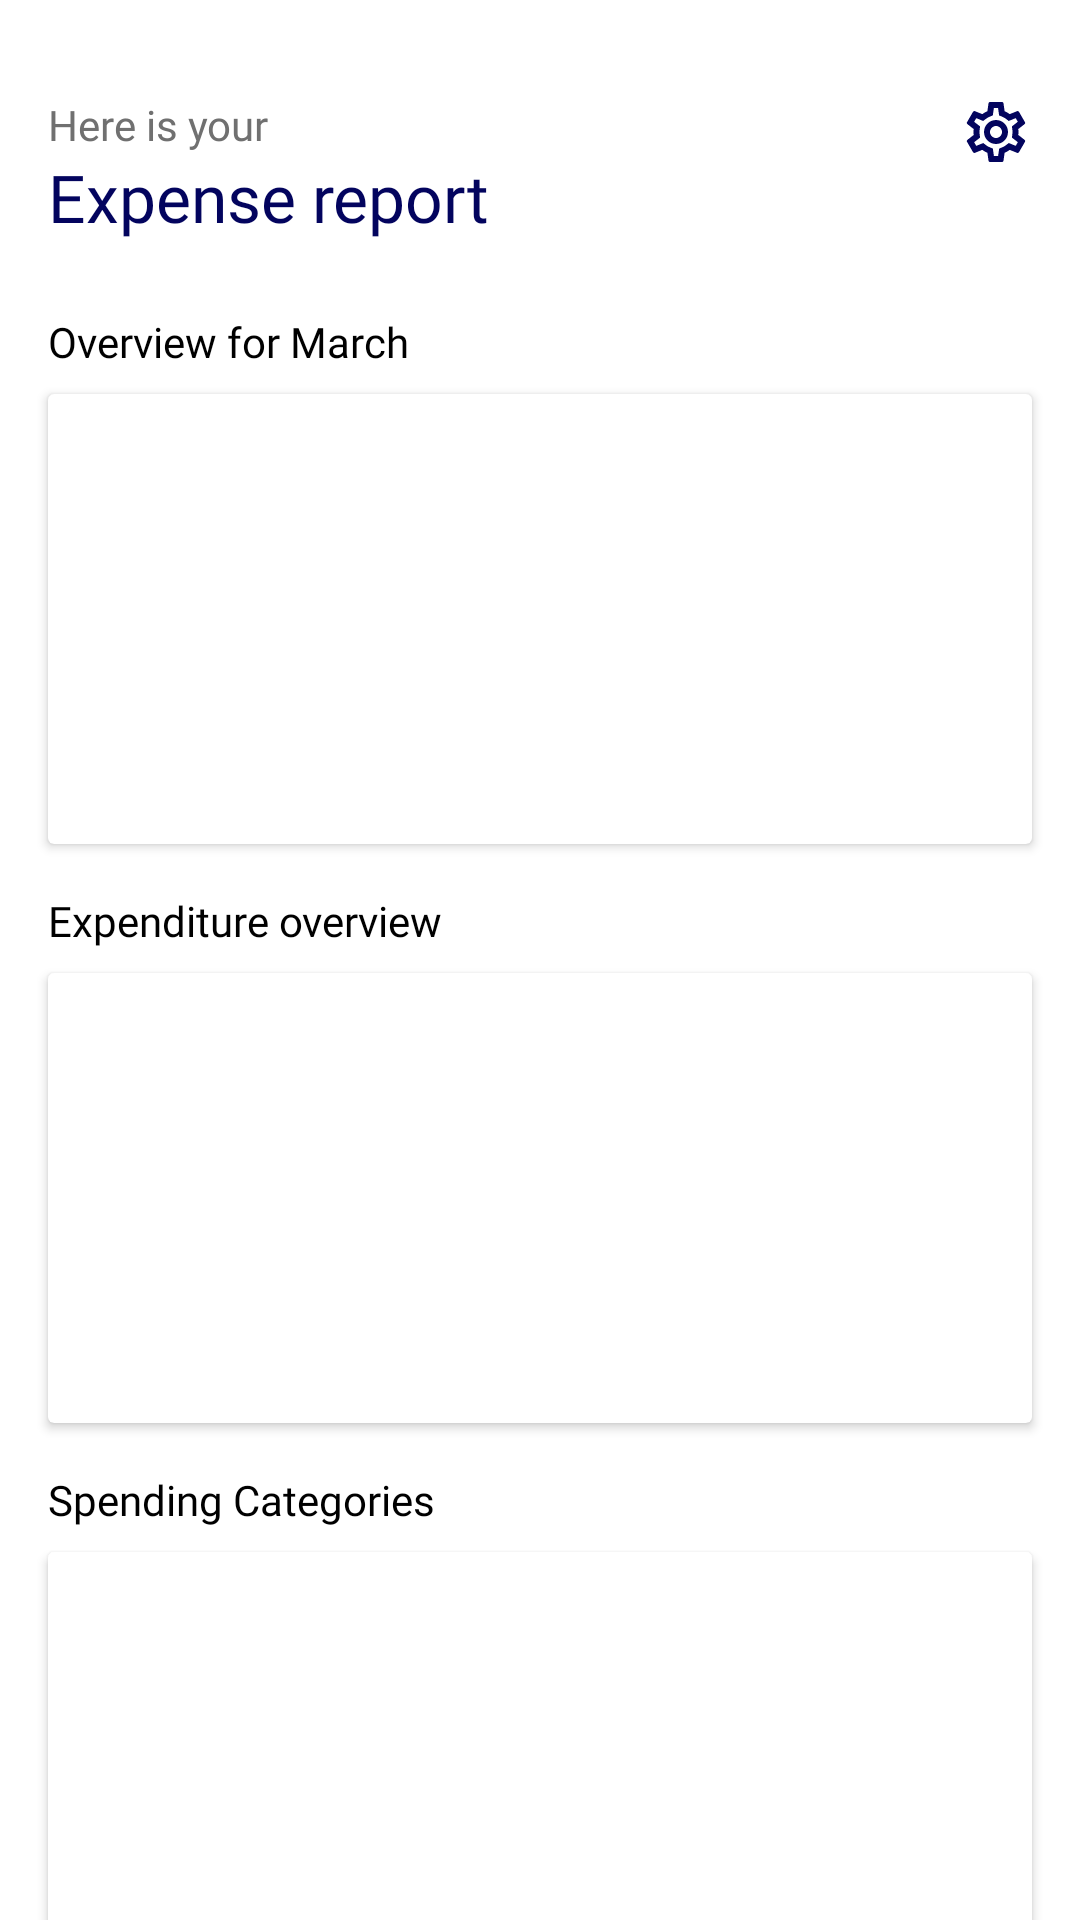

Named icons in this screenshot (1080px x 1920px) and their bounding boxes, [x1, y1, x2, y2]:
settings: [966, 102, 1025, 162]
